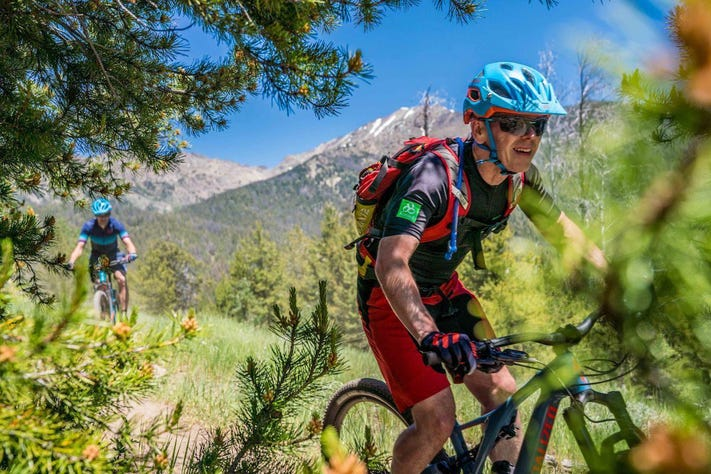helmet: (464, 62, 567, 175), (91, 199, 113, 226)
